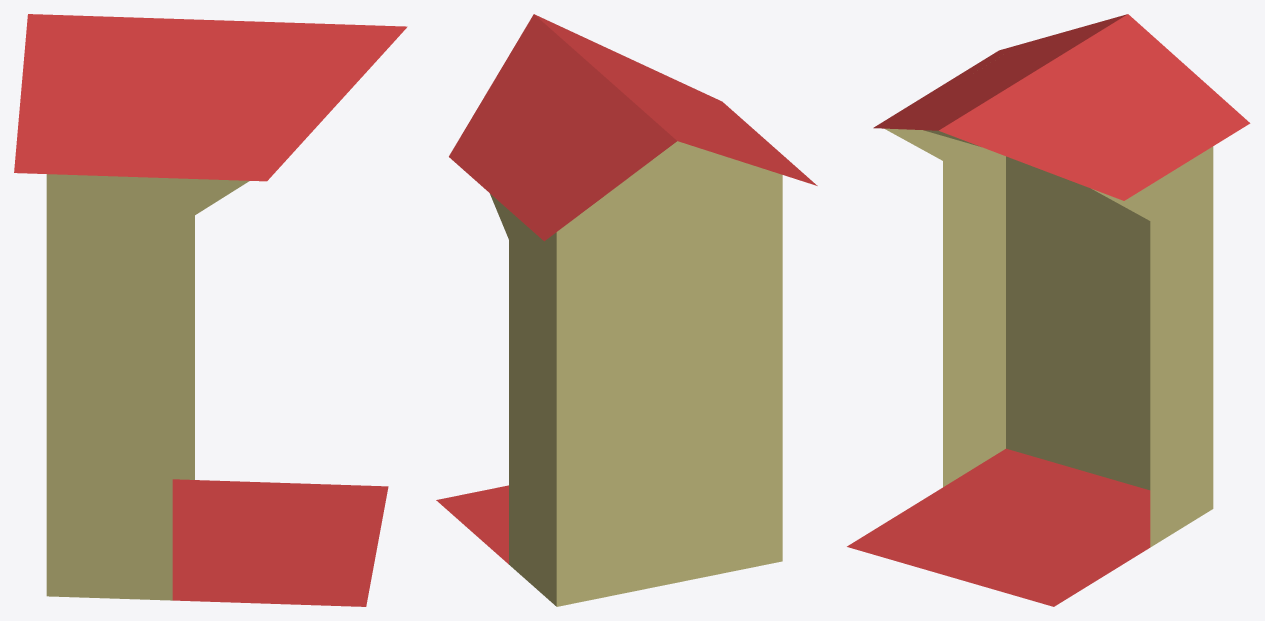
The picture shows the model from 3 angles, left to right: view 1: azimuth 30°, elevation 25°; view 2: azimuth 150°, elevation 25°; view 3: azimuth 270°, elevation 25°; orthographic projection. The views are drawn at different scales.
Size of the model in its own units: 11.58 by 11.36 by 14.16.
